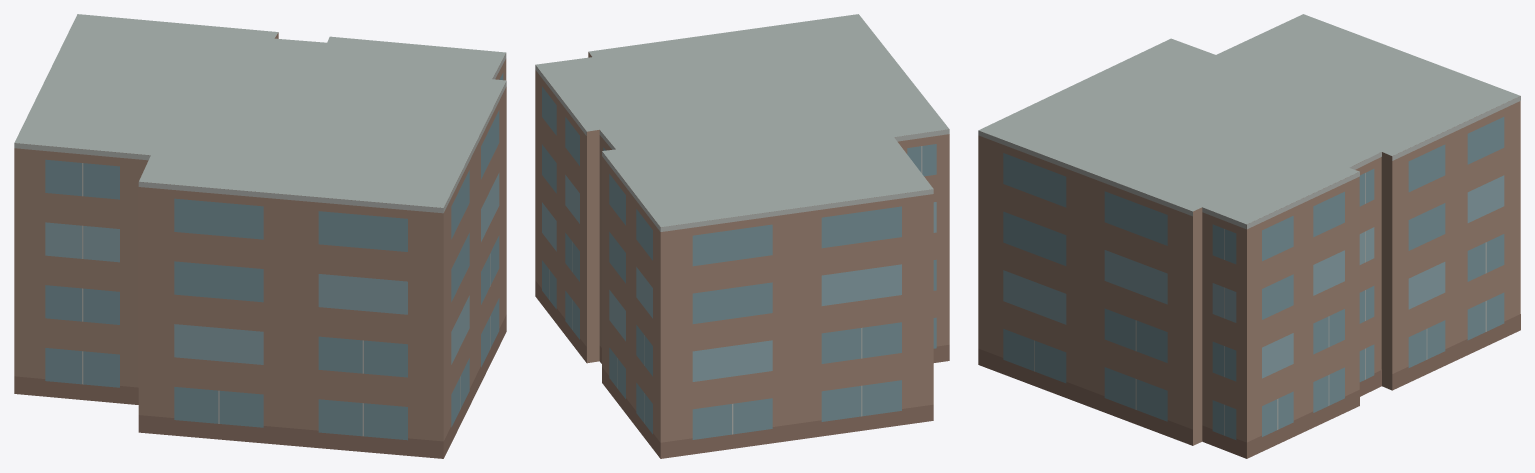
File: survey-upis-32526033.glb
3 views of the same model, side by side, from view 1: azimuth 30°, elevation 25°; view 2: azimuth 150°, elevation 25°; view 3: azimuth 270°, elevation 25° (orthographic). The views are drawn at different scales.
Visible parts, largest first — view 1: survey-upis-32526033.tmp; view 2: survey-upis-32526033.tmp; view 3: survey-upis-32526033.tmp.
Part boxes in pixels (x1=…): survey-upis-32526033.tmp: x1=14, y1=14, x2=506, y2=458; survey-upis-32526033.tmp: x1=535, y1=14, x2=949, y2=458; survey-upis-32526033.tmp: x1=978, y1=14, x2=1520, y2=458.
Bounding box in the file's own units: 22.35 × 11.6 × 24.34.
